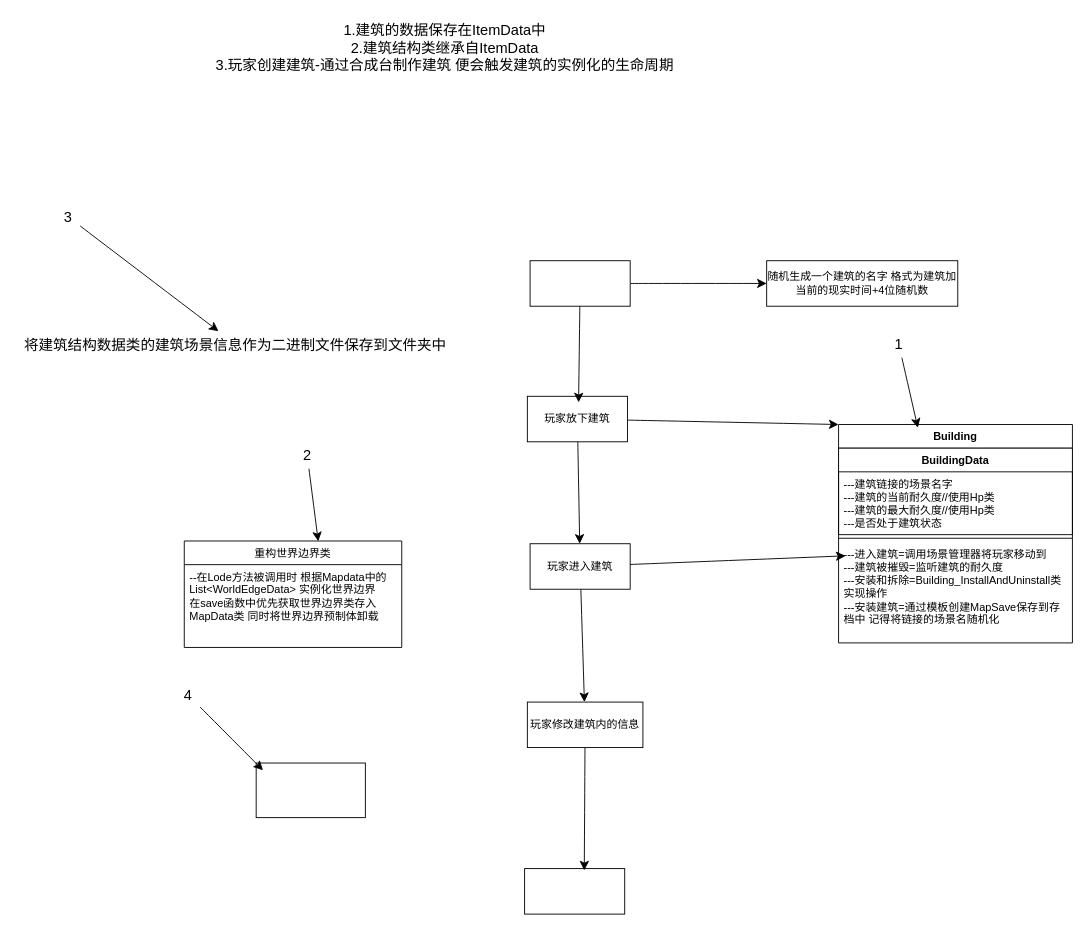
Image size: 1088x930. Some labels were removed from this diagram. Each missing label, with the centre of its shape:
创建建筑结构类模板: point (310, 790)
玩家创建建筑: point (579, 283)
玩家离开建筑: point (574, 891)
